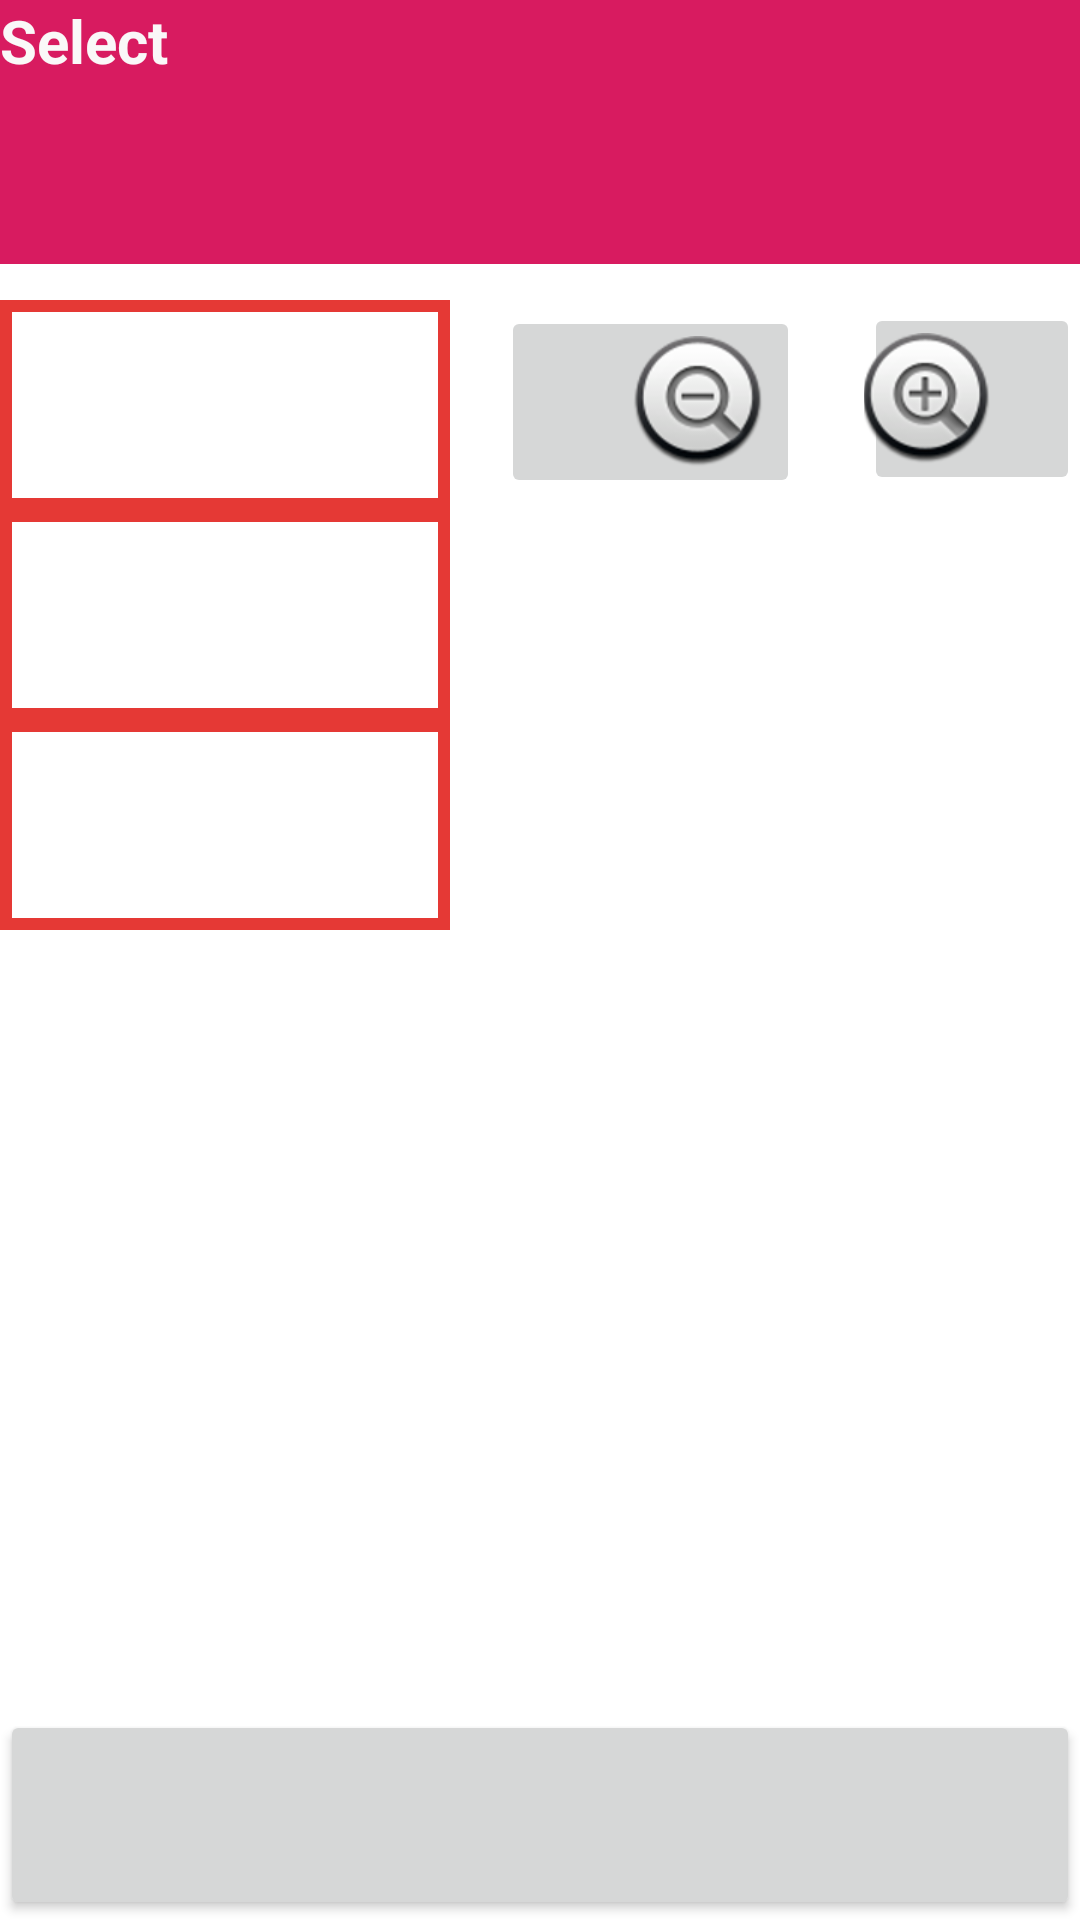

Where to tap for icons on this 1080*1920 app screen, as (x=x, y=y):
minus: (x=650, y=402)
plus: (x=966, y=399)
